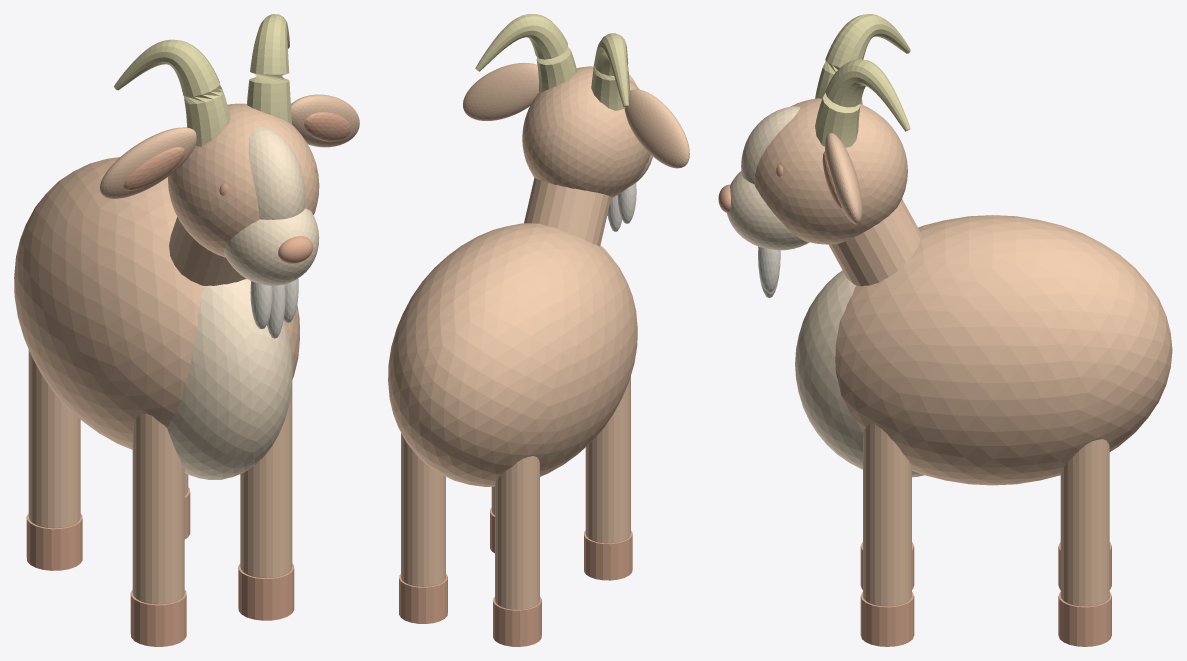
The model's file is goat-test.glb.
3 renders of one model, left to right at view 1: azimuth 30°, elevation 25°; view 2: azimuth 150°, elevation 25°; view 3: azimuth 270°, elevation 25°, orthographic. The views are drawn at different scales.
Parts seen in each view (by area): view 1: Body, Chest, Head, Leg_FR, Leg_BR, Leg_FL, Horn_R, Muzzle, Face, Horn_L, Ear_R, Hoof_FR (+10 smaller); view 2: Body, Head, Leg_BR, Leg_BL, Leg_FR, Neck, Horn_L, Ear_L, Ear_R, Horn_R, Hoof_FR, Hoof_BR (+2 smaller); view 3: Body, Head, Leg_FL, Leg_BL, Chest, Neck, Horn_L, Muzzle, Horn_R, Hoof_FL, Hoof_BL, Ear_L (+2 smaller).
Part boxes in pixels (x1,y1,x2,y2): Body: (14,157,299,449); Chest: (167,279,292,479); Head: (168,103,319,257); Leg_FR: (132,413,184,604); Leg_BR: (28,350,80,528); Leg_FL: (240,383,292,578); Horn_R: (114,39,230,146); Muzzle: (224,208,319,285); Face: (248,127,305,219); Horn_L: (247,14,291,124); Ear_R: (100,127,196,198); Hoof_FR: (130,590,186,646); Body: (388,223,637,486); Head: (522,66,650,197); Leg_BR: (495,456,539,609); Leg_BL: (401,433,445,586); Leg_FR: (585,376,630,543); Neck: (524,177,611,246); Horn_L: (475,14,576,92); Ear_L: (463,62,538,120); Ear_R: (624,89,689,168); Horn_R: (591,33,629,110); Hoof_FR: (584,530,632,580); Hoof_BR: (493,597,541,646); Body: (835,215,1172,485); Head: (754,98,907,244); Leg_FL: (863,424,911,606); Leg_BL: (1060,439,1109,606); Chest: (795,270,923,477); Neck: (829,199,921,286); Horn_L: (815,59,910,147); Muzzle: (727,171,809,250); Horn_R: (815,14,910,98); Hoof_FL: (860,592,914,646); Hoof_BL: (1058,592,1111,646); Ear_L: (825,133,862,224).
Bounding box in the file's own units: 0.5524 × 1.23 × 0.884.
